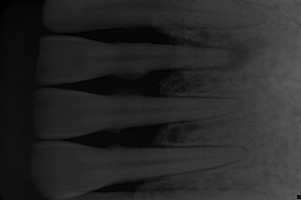Furcation Involvement: (213, 42, 257, 71)
